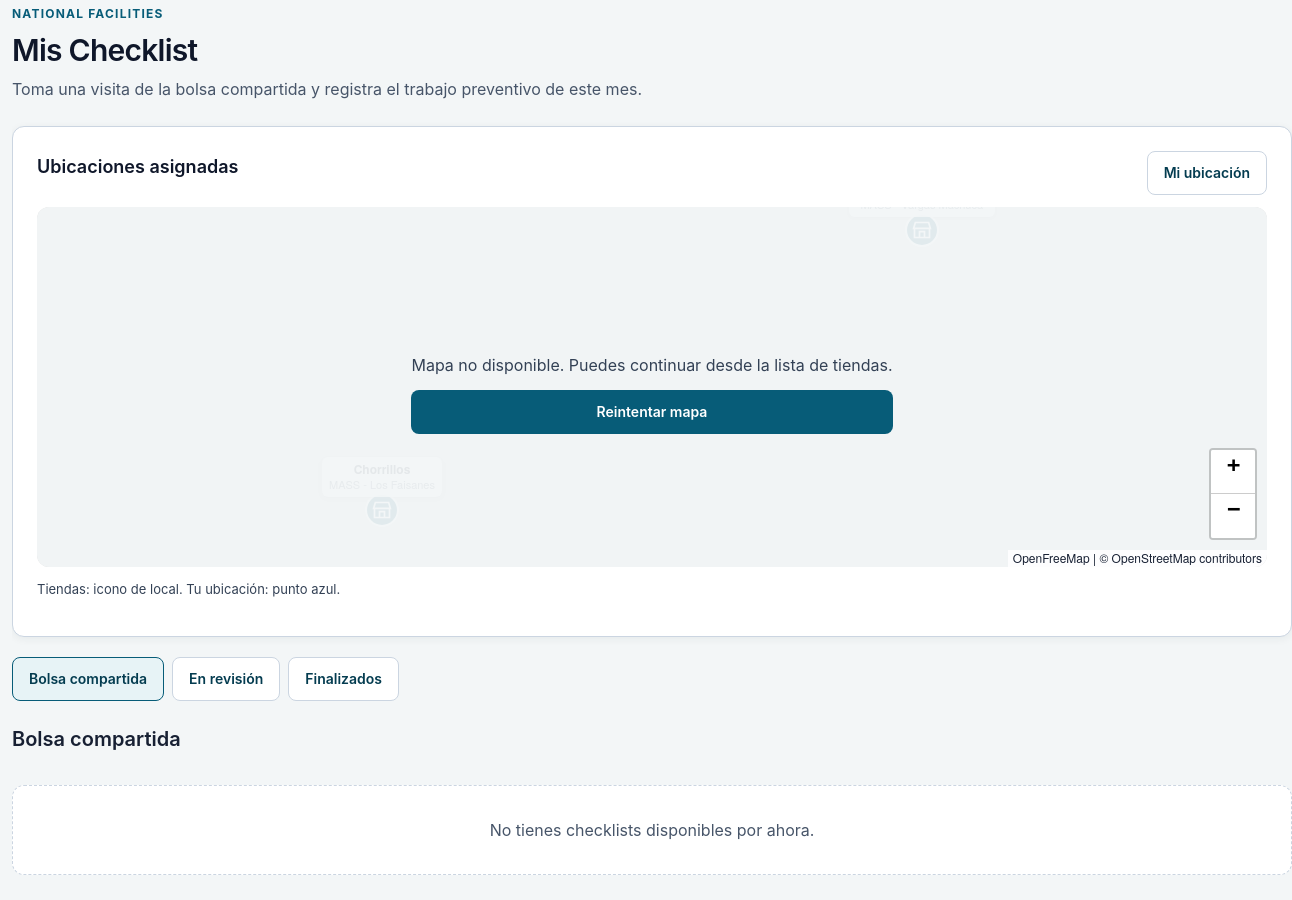
Test: Mis Checklist por cobertura y propietario › En revisión exige propietario, envío y fase real de revisión
This screenshot has width=1292, height=900.
Expected: the element named "Mapa de tiendas" is shown, [12,126,1291,637]
Expected: the button "Bolsa compartida" is shown, [12,657,164,701]
Click the button "En revisión": [226, 679] box [172,657,280,701]
(page scrolled)
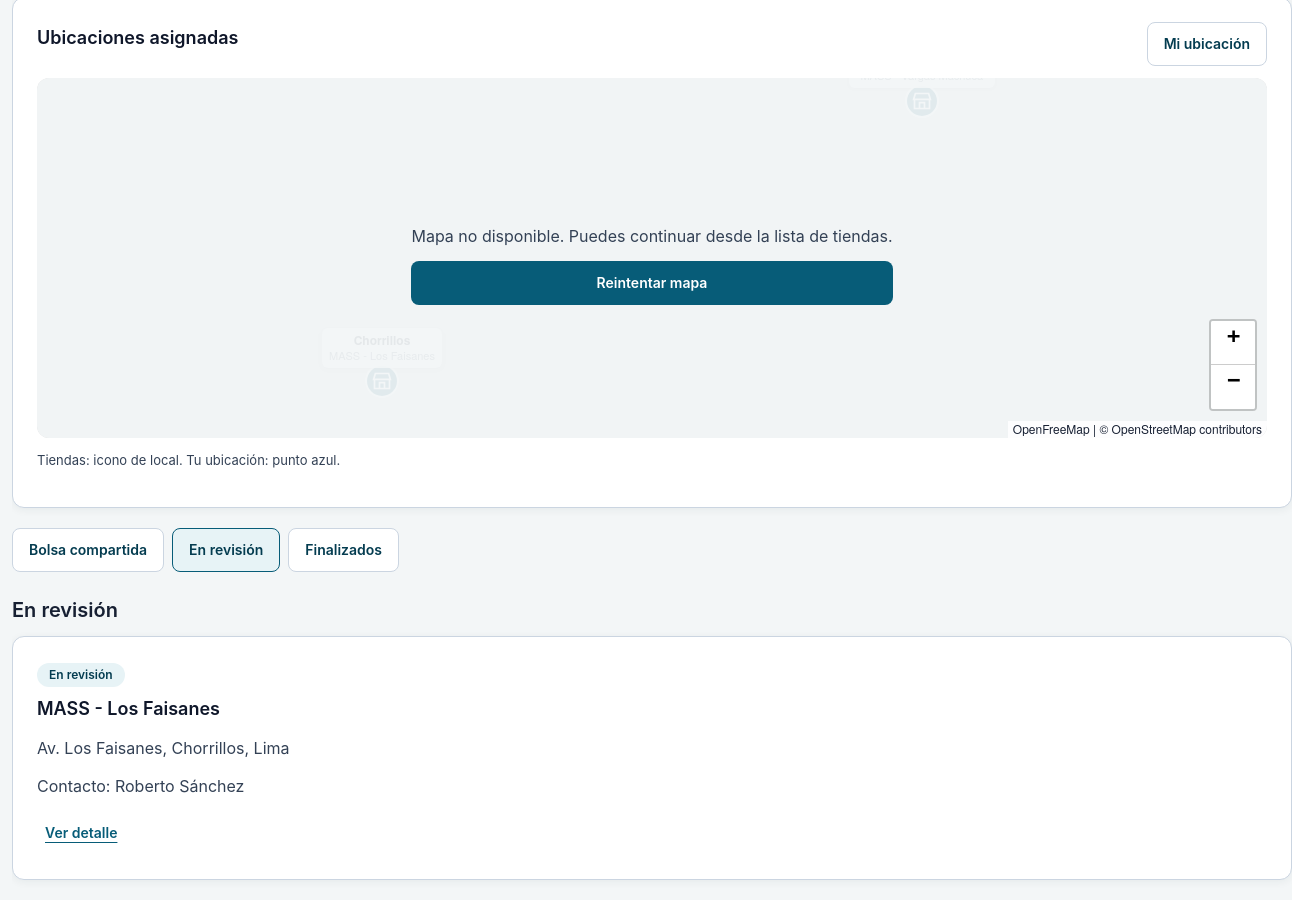
Expected: the number of links "Ver detalle" is 1, [45,824,117,841]
